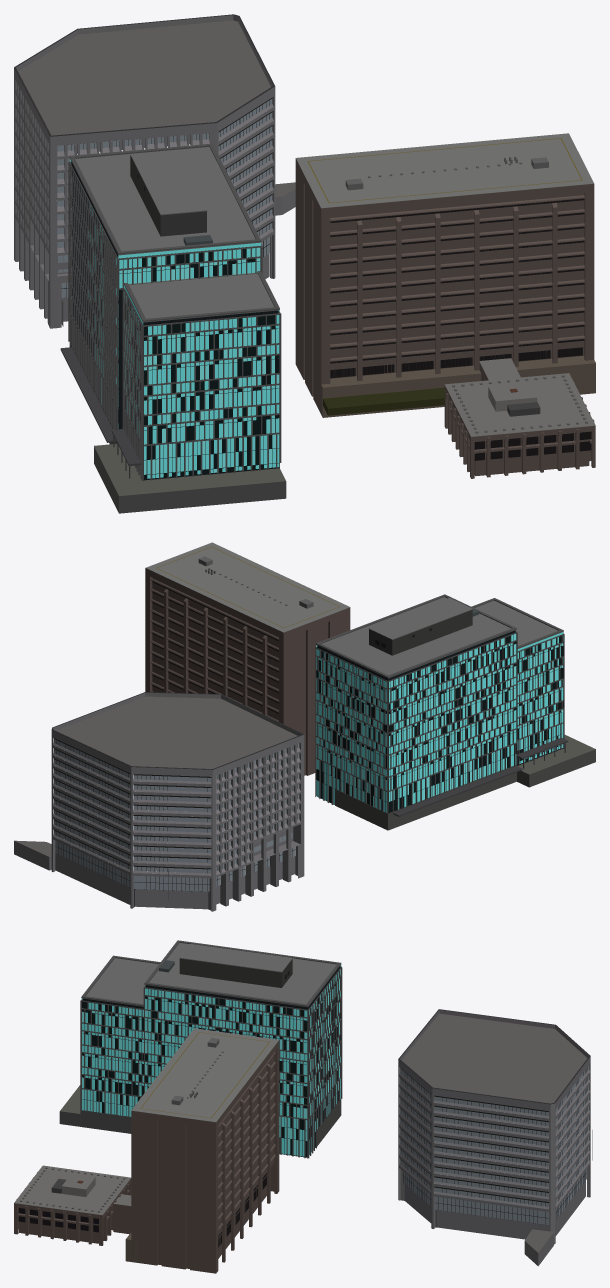
3 views of the same model, one above another, from view 1: azimuth 30°, elevation 25°; view 2: azimuth 150°, elevation 25°; view 3: azimuth 270°, elevation 25° (orthographic). The views are drawn at different scales.
Parts seen in each view (by area): view 1: opaque, glass; view 2: opaque, glass; view 3: opaque, glass.
Part boxes in pixels (x1,y1,x2,y2): opaque: [14, 14, 595, 513]; glass: [57, 99, 591, 478]; opaque: [14, 542, 595, 911]; glass: [54, 581, 563, 891]; opaque: [14, 940, 592, 1273]; glass: [18, 965, 588, 1247].
Size of the model in its own units: 158 by 71.9 by 205.
2 materials, 2 textured.
